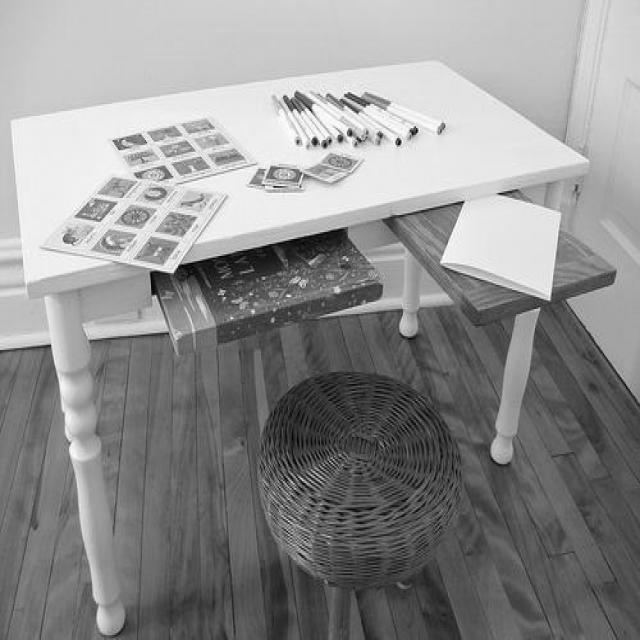table: (12, 59, 617, 634)
